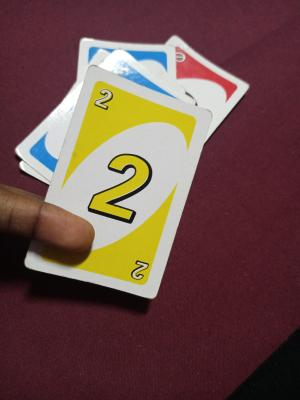num_2: (93, 81, 119, 149)
yellow: (119, 241, 155, 286)
